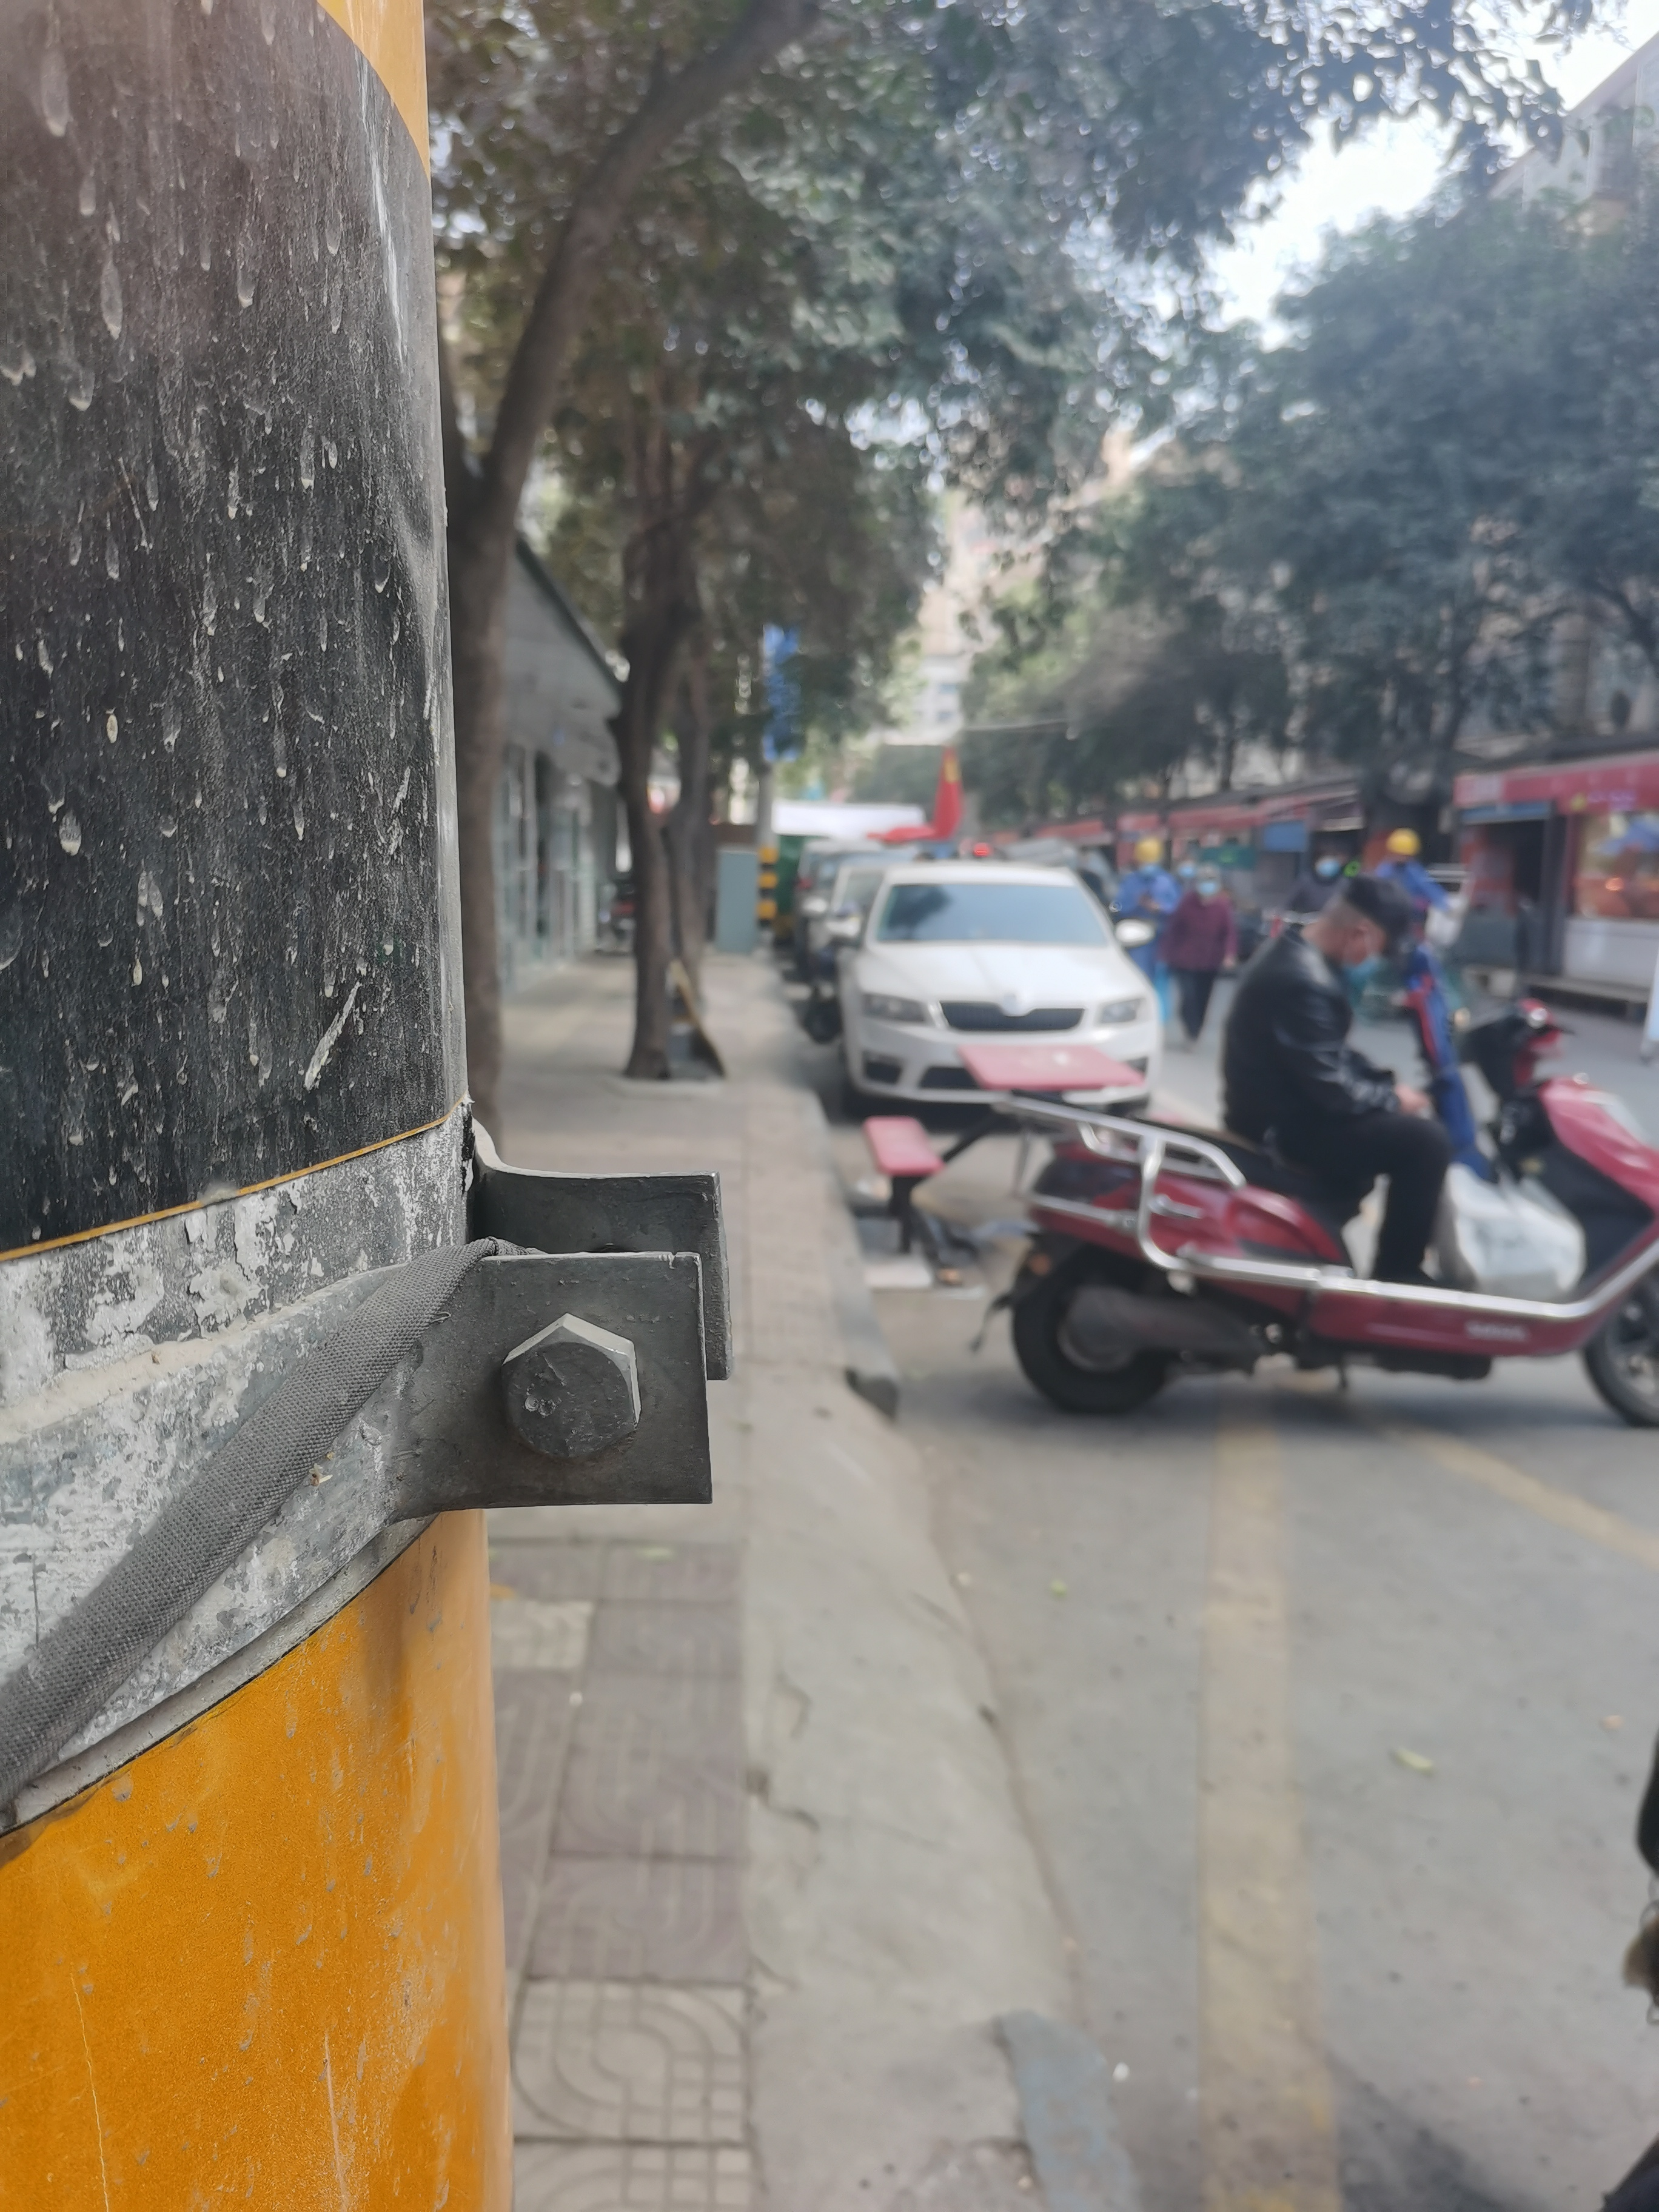bolt_a: (497, 1313, 645, 1468)
